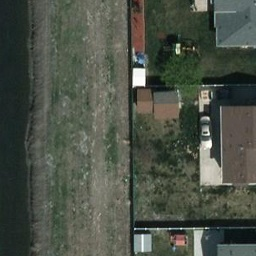car: (198, 116, 214, 150)
